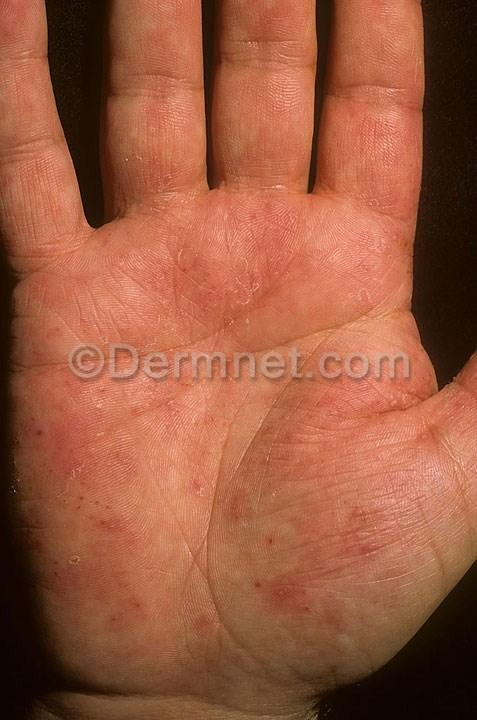Eczema: (231, 481, 423, 641), (262, 304, 417, 464), (53, 279, 213, 431), (52, 447, 173, 636), (322, 109, 425, 206), (195, 216, 340, 281), (1, 134, 79, 245), (118, 103, 205, 184), (218, 94, 292, 179), (228, 12, 303, 79), (366, 23, 438, 91), (127, 12, 188, 74)
